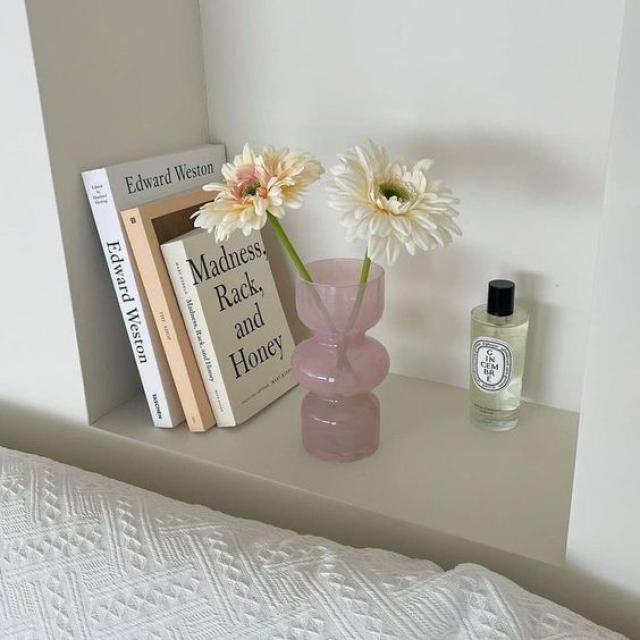book: (83, 170, 170, 427), (121, 205, 207, 434), (161, 242, 235, 427)
flowers: (195, 143, 460, 280)
